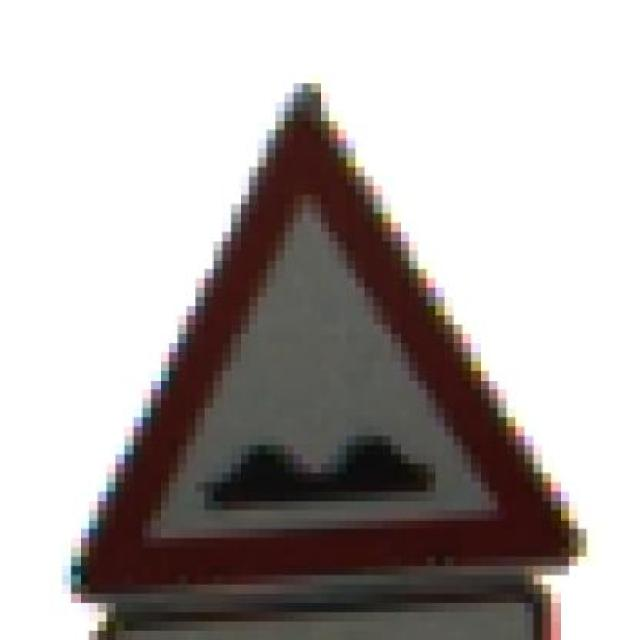Uneven Road: (50, 75, 584, 594)
